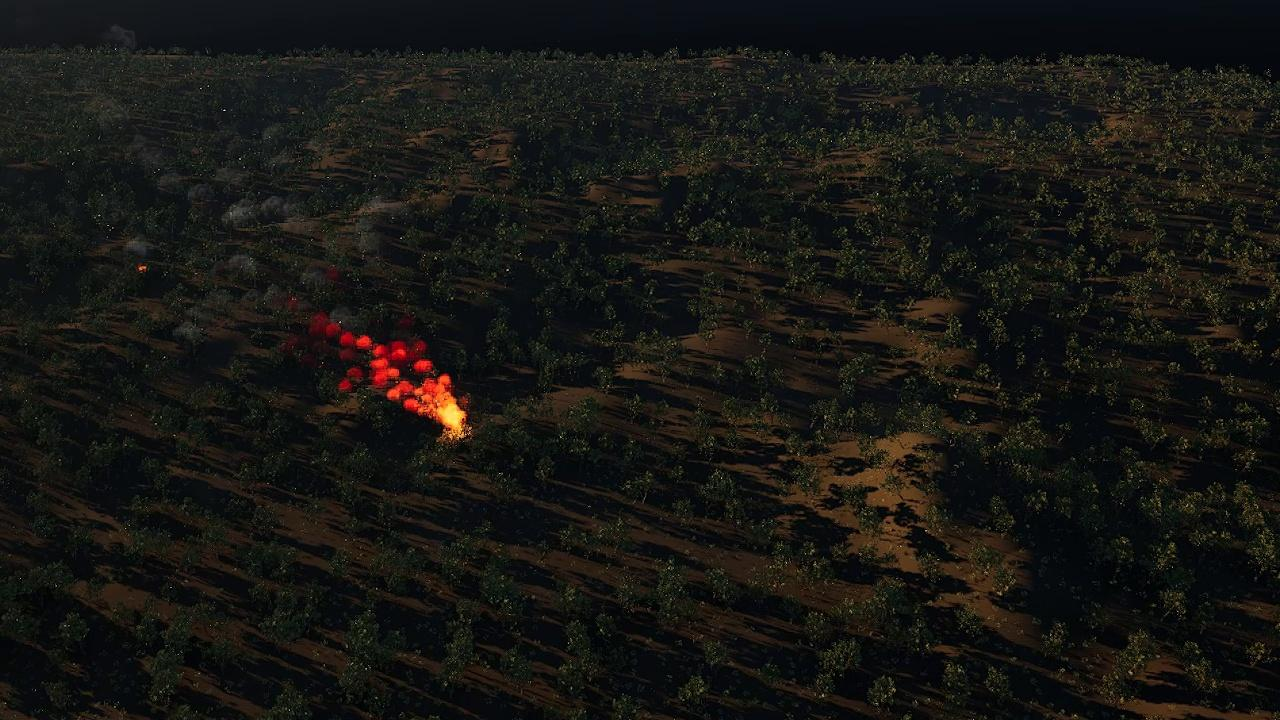fire: (431, 396, 466, 433), (135, 265, 150, 274)
smoke: (281, 295, 453, 412), (179, 251, 266, 341), (225, 193, 312, 228), (125, 235, 148, 250)
